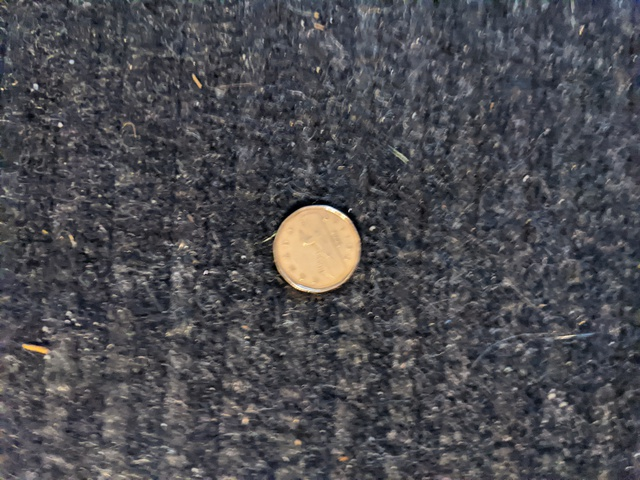loonie: (259, 194, 368, 299)
